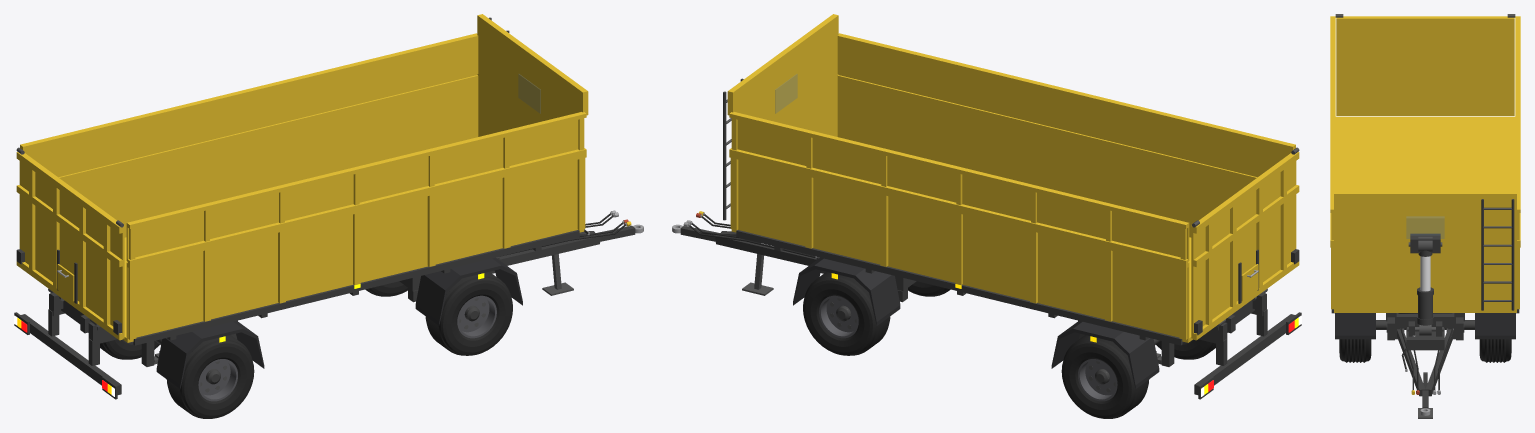
The model's file is grain_trailer.glb.
The picture shows the model from 3 angles, left to right: view 1: azimuth 30°, elevation 25°; view 2: azimuth 150°, elevation 25°; view 3: azimuth 270°, elevation 25°; orthographic projection. The views are drawn at different scales.
Visible parts, largest first — view 1: body_tilt, tailgate_tilt, chassis, wheel_rear_right_spin, wheel_front_right_spin, front_axle_steer, drawbar_tilt, wheel_rear_left_spin; view 2: body_tilt, tailgate_tilt, chassis, wheel_rear_left_spin, wheel_front_left_spin, front_axle_steer, drawbar_tilt, wheel_rear_right_spin; view 3: body_tilt, tailgate_tilt, front_axle_steer, chassis, drawbar_tilt, wheel_front_right_spin, wheel_front_left_spin, hoist_cylinder_rotate, hoist_cylinder_rod_slide.
Boxes of the visible parts, x1,y1,x2,y2 form: body_tilt: (20,14,588,345); tailgate_tilt: (16,147,124,340); chassis: (14,229,589,399); wheel_rear_right_spin: (166,335,254,418); wheel_front_right_spin: (425,272,512,355); front_axle_steer: (399,257,522,325); drawbar_tilt: (499,210,643,295); wheel_rear_left_spin: (100,339,159,359); body_tilt: (723,14,1295,345); tailgate_tilt: (1191,147,1299,340); chassis: (1051,288,1301,399); wheel_rear_left_spin: (1061,335,1149,418); wheel_front_left_spin: (803,272,890,355); front_axle_steer: (793,257,916,325); drawbar_tilt: (672,211,816,295); wheel_rear_right_spin: (1156,339,1215,359); body_tilt: (1330,16,1520,321); tailgate_tilt: (1335,14,1515,115); front_axle_steer: (1335,313,1515,339); chassis: (1387,313,1463,371); drawbar_tilt: (1397,328,1453,418); wheel_front_right_spin: (1339,339,1371,362); wheel_front_left_spin: (1479,339,1511,362); hoist_cylinder_rotate: (1417,287,1433,335); hoist_cylinder_rod_slide: (1418,236,1432,291).
Size of the model in its own units: 7.65 by 3.05 by 2.5.
Materials: 14 (14 with a texture image).
